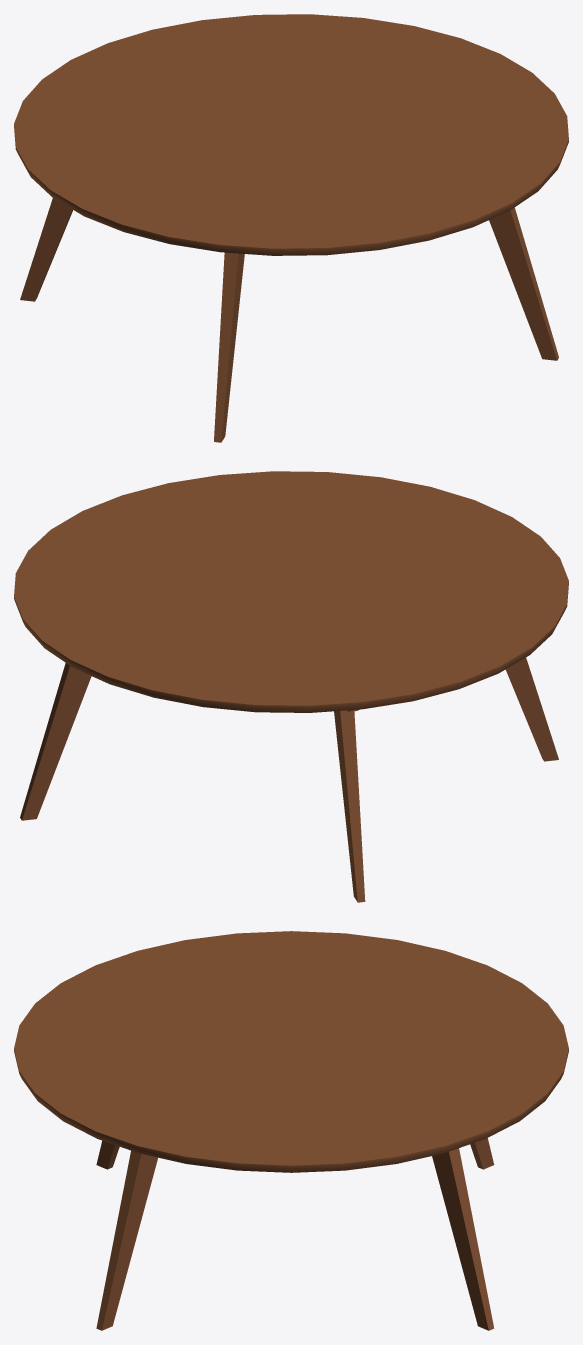
File: Table_Round_01.glb
3 renders of one model, top to bottom at view 1: azimuth 30°, elevation 25°; view 2: azimuth 150°, elevation 25°; view 3: azimuth 270°, elevation 25°, orthographic.
Parts seen in each view (by area): view 1: Mesh_Table_Round_01; view 2: Mesh_Table_Round_01; view 3: Mesh_Table_Round_01.
Part boxes in pixels (x1,y1,x2,y2): Mesh_Table_Round_01: (14, 14, 568, 442); Mesh_Table_Round_01: (14, 471, 568, 902); Mesh_Table_Round_01: (14, 931, 568, 1330).
Bounding box in the file's own units: 1.8 × 0.71 × 1.8.
Materials: 1 (1 with a texture image).
